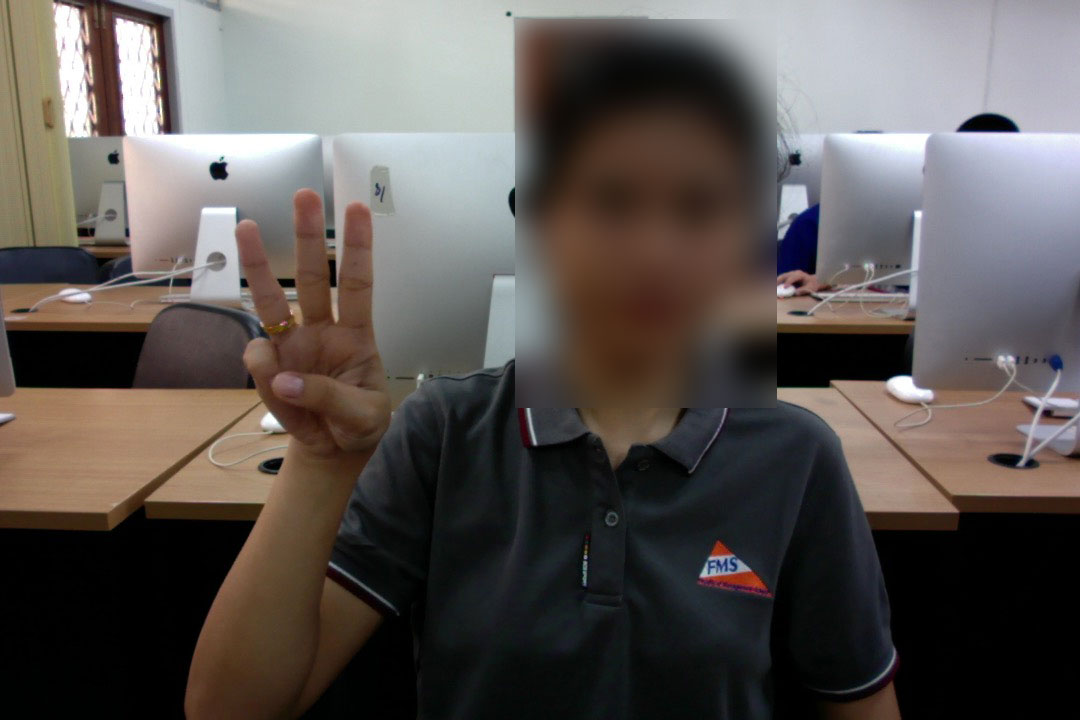wor: (225, 192, 413, 466)
